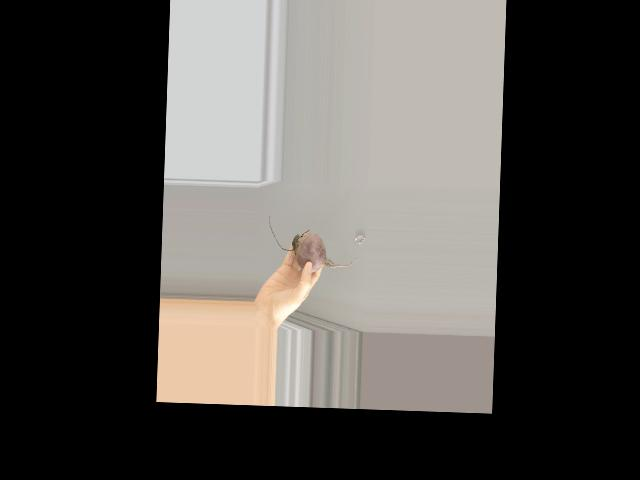beet: (266, 214, 359, 274)
